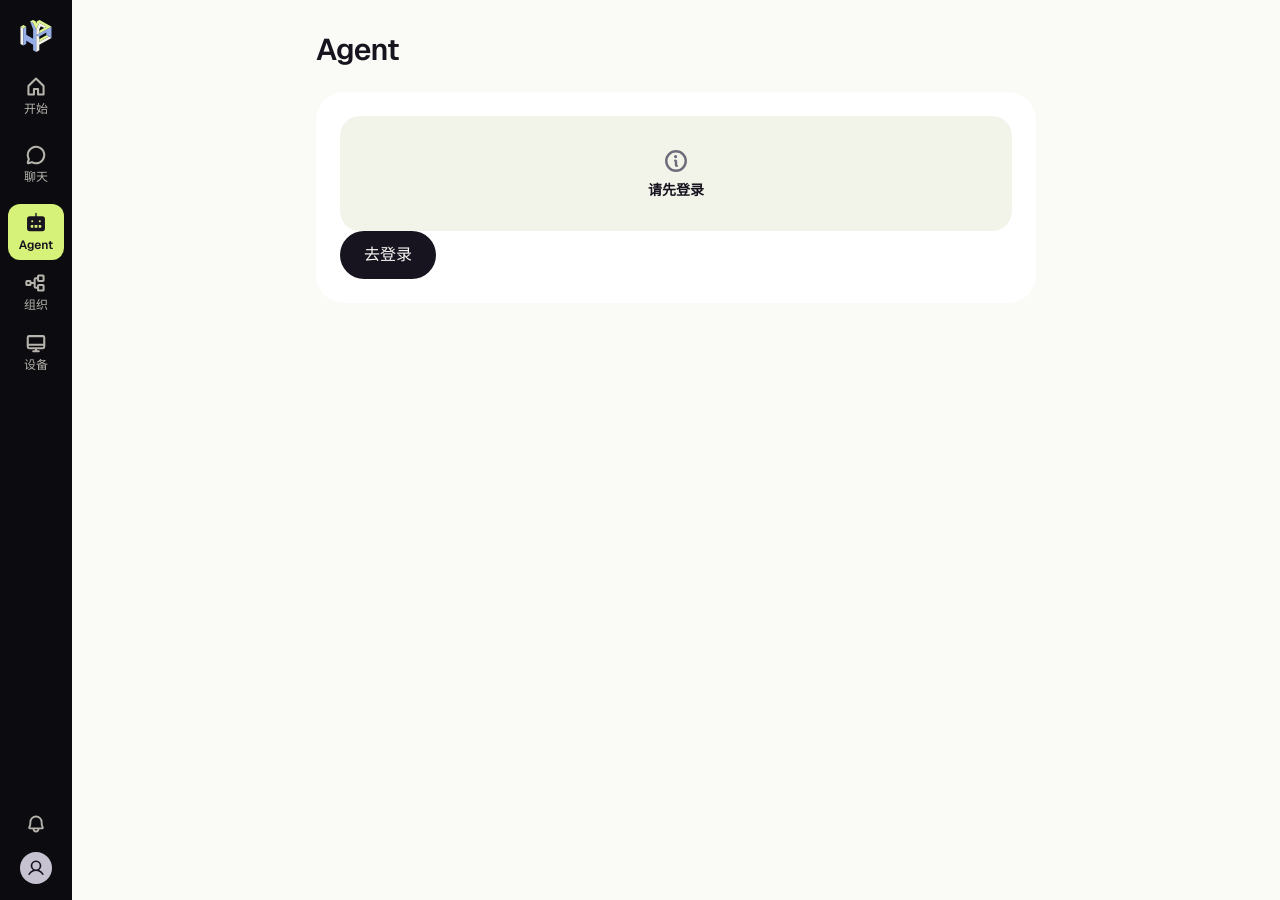
keeps contacts empty without mounting business controllers before login
This screenshot has width=1280, height=900.
Expected: the text "请先登录" is shown, [648,182,704,199]
Step 1. Click the button "去登录" → {"x": 388, "y": 255}, box [340,231,436,279]
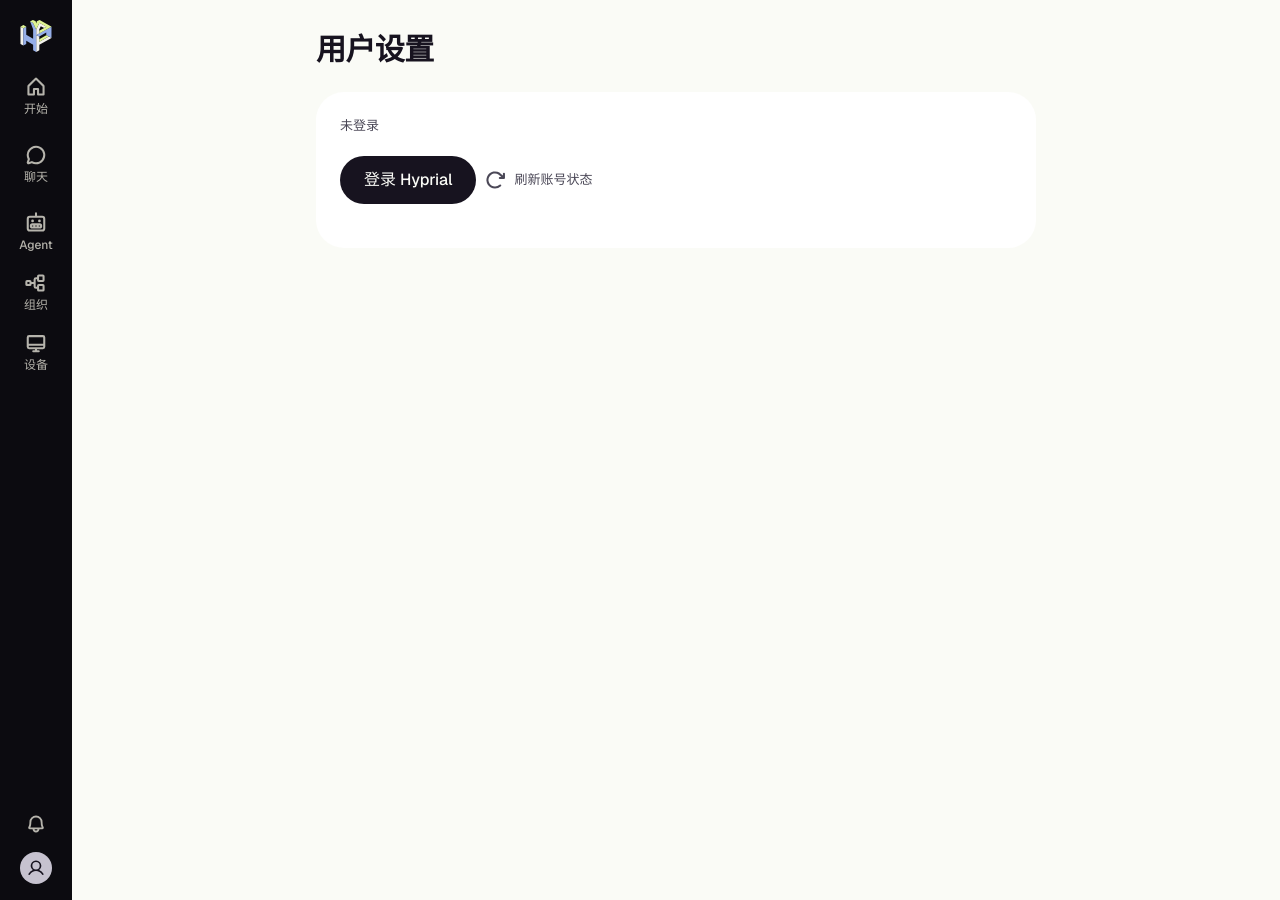
Expected: the button "登录 Hyprial" is shown, [340,156,476,204]
